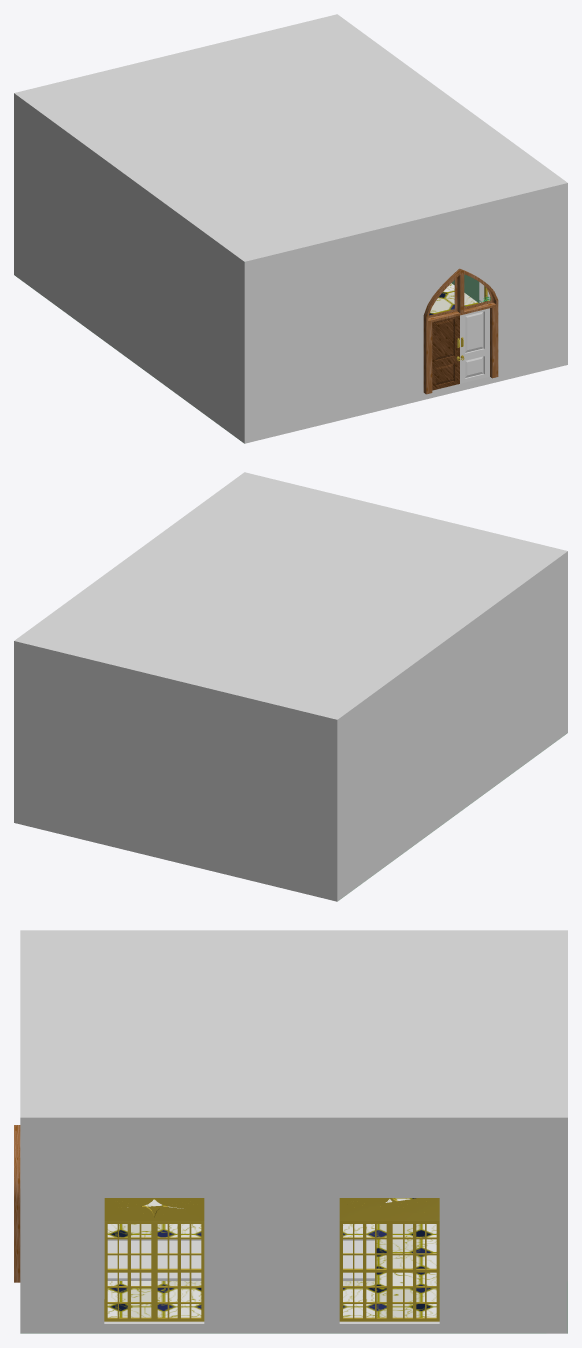
Rendered from Room1FinalTry.fbx.
3 renders of one model, top to bottom at view 1: azimuth 30°, elevation 25°; view 2: azimuth 150°, elevation 25°; view 3: azimuth 270°, elevation 25°, orthographic. The views are drawn at different scales.
Parts seen in each view (by area): view 1: OuterShell.001, DoorFrame, DoorEast, DoorWest; view 2: OuterShell.001; view 3: OuterShell.001, Window.002, WindowBars.001, Mat.001, DoorFrame.
Part boxes in pixels (x1,y1,x2,y2): OuterShell.001: (14, 14, 567, 443); DoorFrame: (423, 268, 498, 394); DoorEast: (460, 308, 489, 383); DoorWest: (432, 315, 460, 390); OuterShell.001: (14, 472, 567, 901); OuterShell.001: (20, 930, 567, 1333); Window.002: (104, 1198, 204, 1321); WindowBars.001: (339, 1198, 439, 1321); Mat.001: (107, 1239, 374, 1280); DoorFrame: (14, 1125, 20, 1282).
Size of the model in its own units: 1027 by 552 by 1283.
